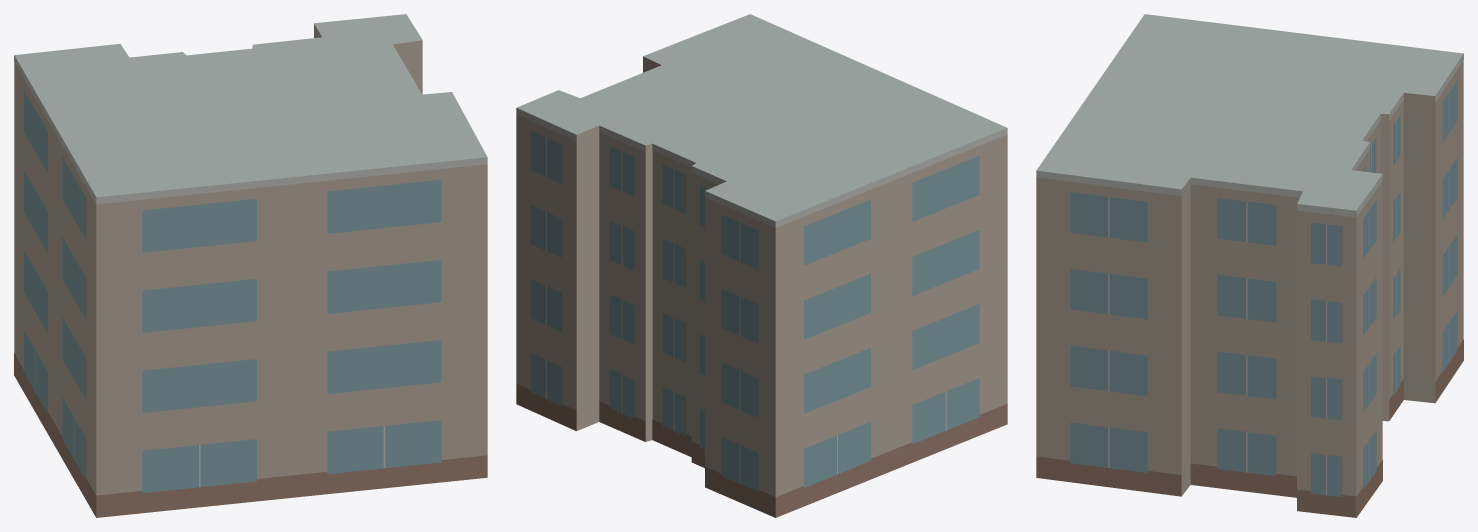
The model's file is survey-upis-32951722.glb.
The picture shows the model from 3 angles, left to right: view 1: azimuth 30°, elevation 25°; view 2: azimuth 150°, elevation 25°; view 3: azimuth 270°, elevation 25°; orthographic projection. The views are drawn at different scales.
Visible parts, largest first — view 1: survey-upis-32951722.tmp; view 2: survey-upis-32951722.tmp; view 3: survey-upis-32951722.tmp.
Boxes of the visible parts, box(x1,y1,x2,y2) form: survey-upis-32951722.tmp: box(14, 14, 487, 517); survey-upis-32951722.tmp: box(516, 14, 1007, 517); survey-upis-32951722.tmp: box(1036, 14, 1463, 517).
Bounding box in the file's own units: 15.25 × 11.1 × 14.01.
